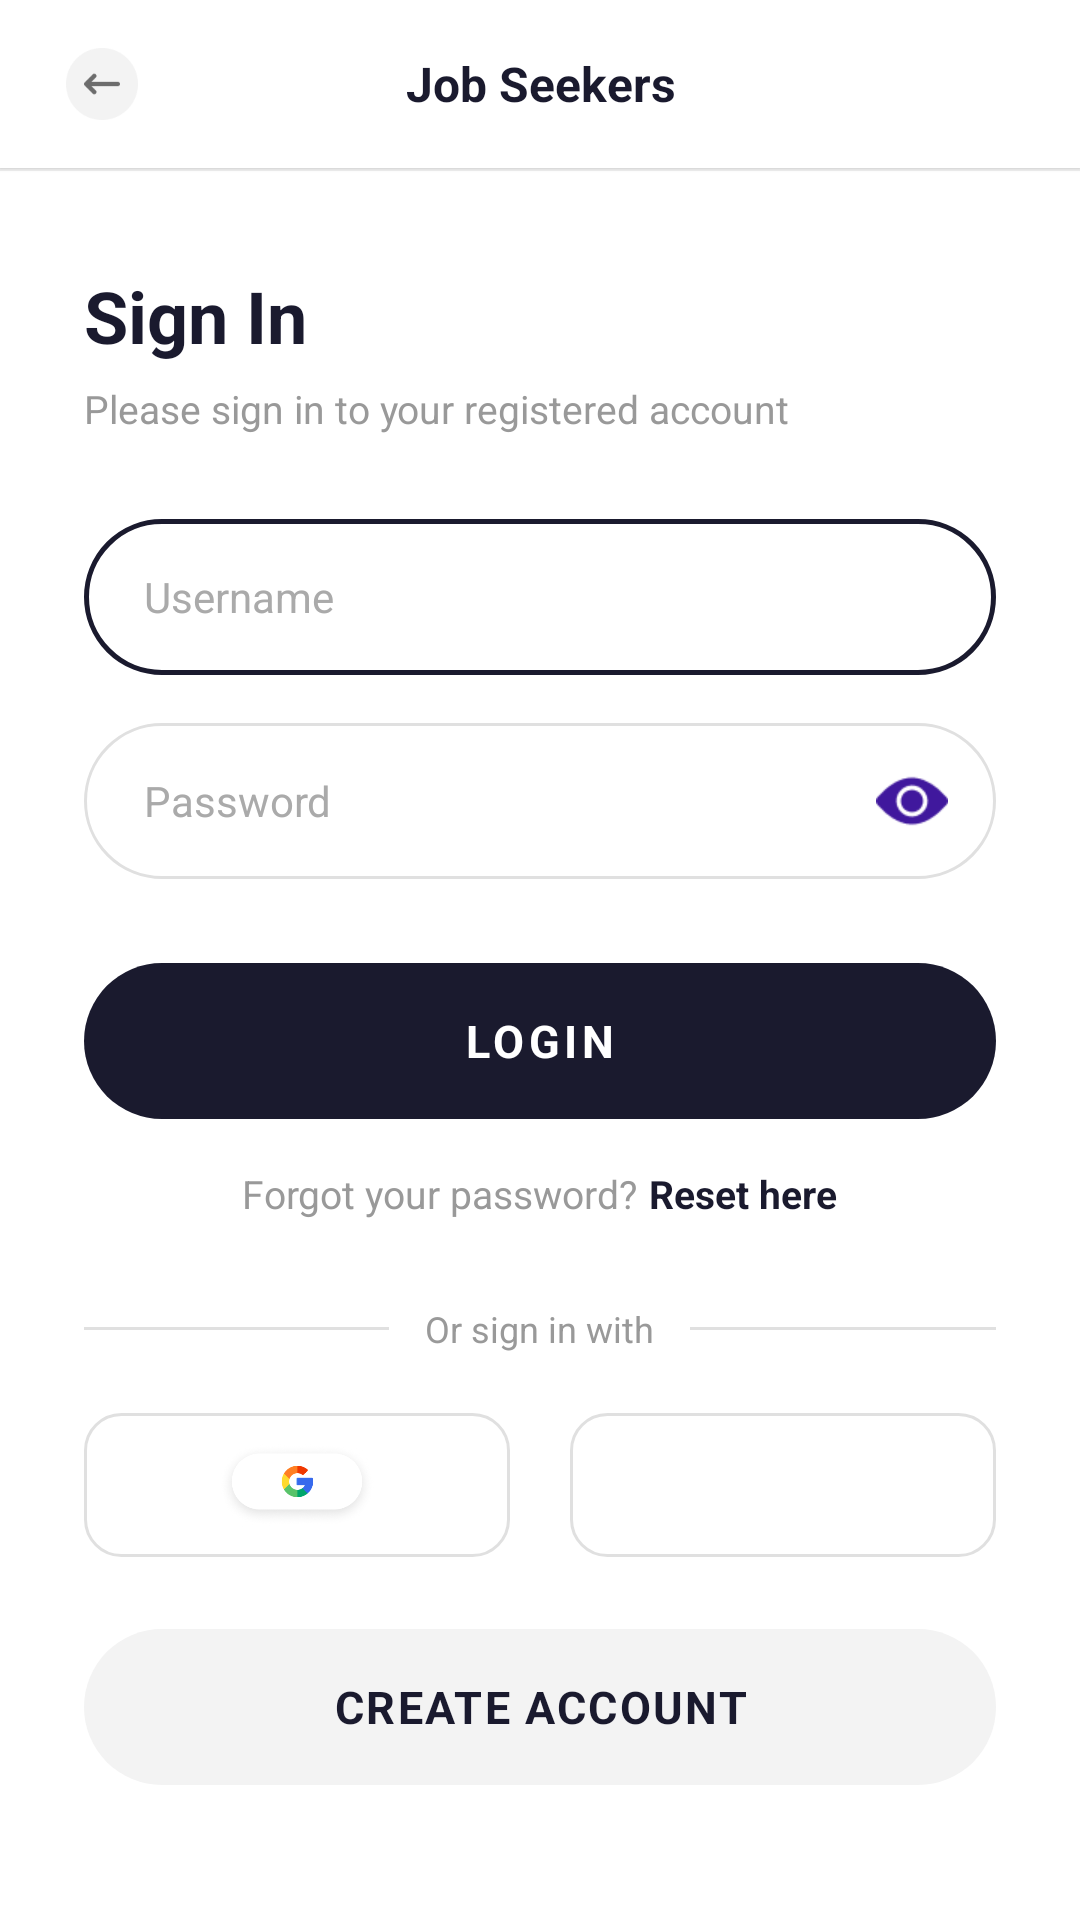

Locate icon controls on the screen. Image size 1080px×1920px, boxes as bbox=(x1, y1, x2, y2).
Back: bbox=(66, 48, 138, 120)
